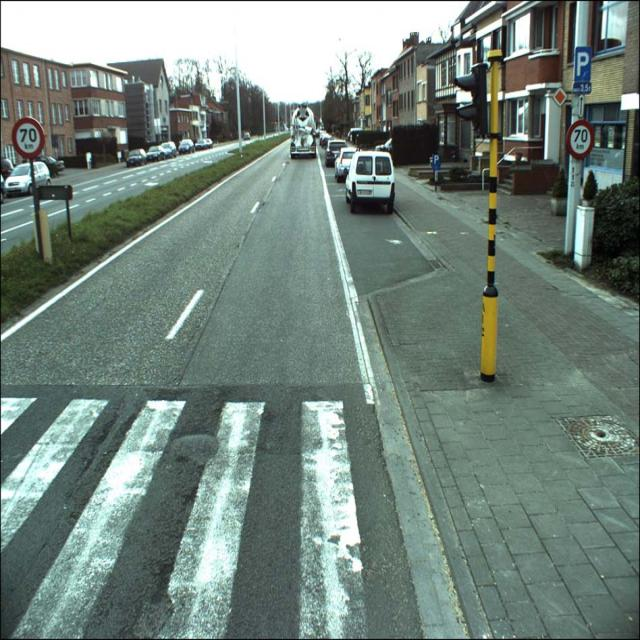park: (574, 46, 591, 83)
